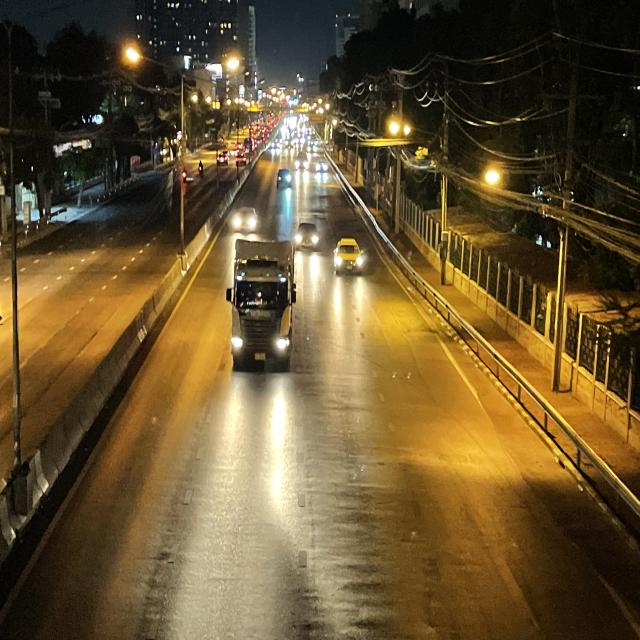car: (333, 236, 364, 276)
truck: (226, 238, 296, 372)
